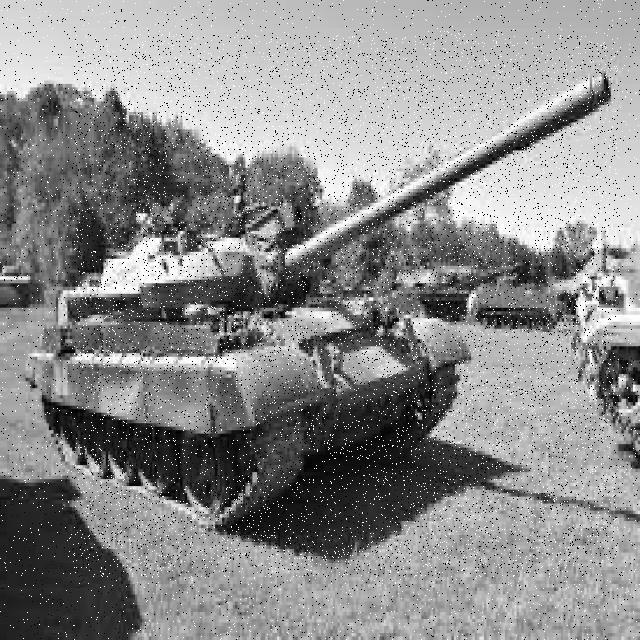MIL_MBT: (74, 35, 618, 577)
